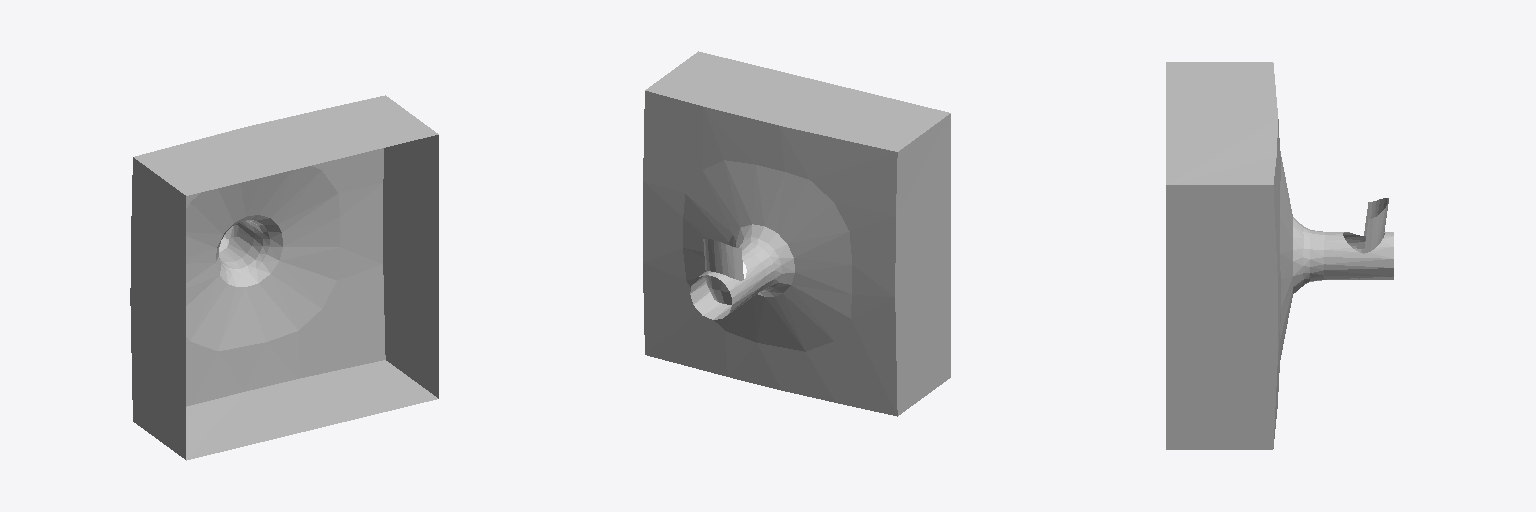
File: box_out_clean.obj
The picture shows the model from 3 angles: view 1: azimuth 30°, elevation 25°; view 2: azimuth 150°, elevation 25°; view 3: azimuth 270°, elevation 25°; orthographic projection.
Parts seen in each view (by area): view 1: box.001_Circle.006; view 2: box.001_Circle.006; view 3: box.001_Circle.006.
Boxes of the visible parts, x1=… form: box.001_Circle.006: x1=130, y1=95, x2=438, y2=460; box.001_Circle.006: x1=643, y1=51, x2=950, y2=416; box.001_Circle.006: x1=1166, y1=62, x2=1393, y2=449.
Size of the model in its own units: 14.03 by 14.03 by 10.91.